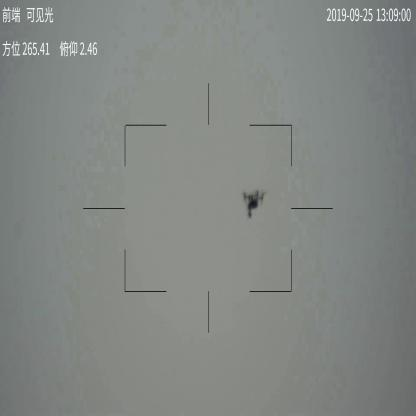uav: (242, 189, 266, 219)
